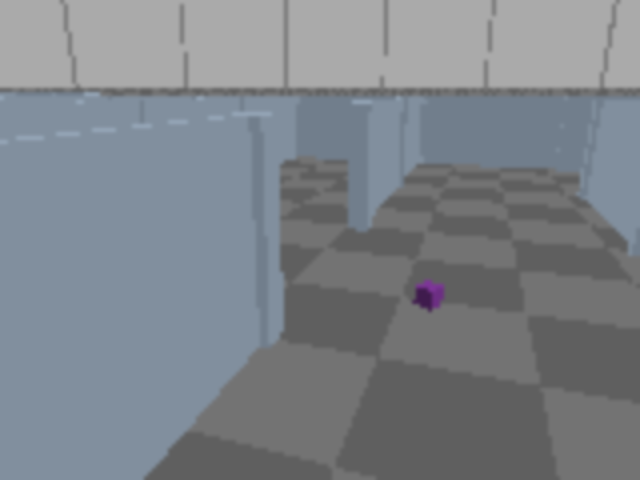puck: (414, 280, 443, 310)
